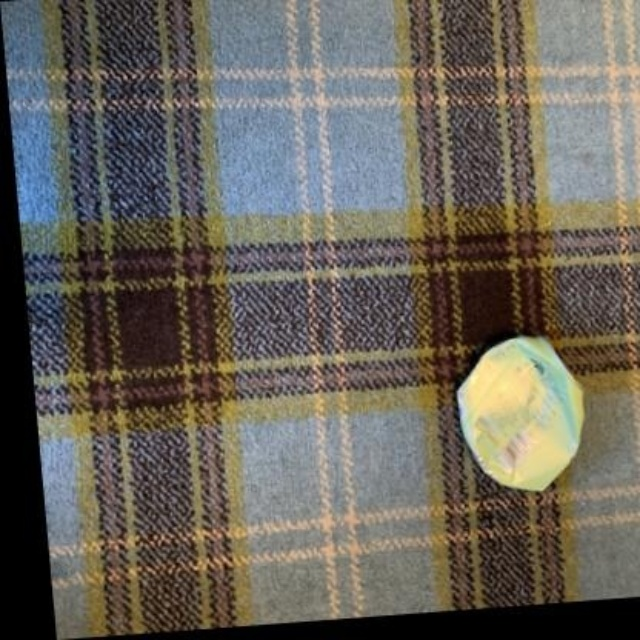trash: (457, 335, 583, 489)
